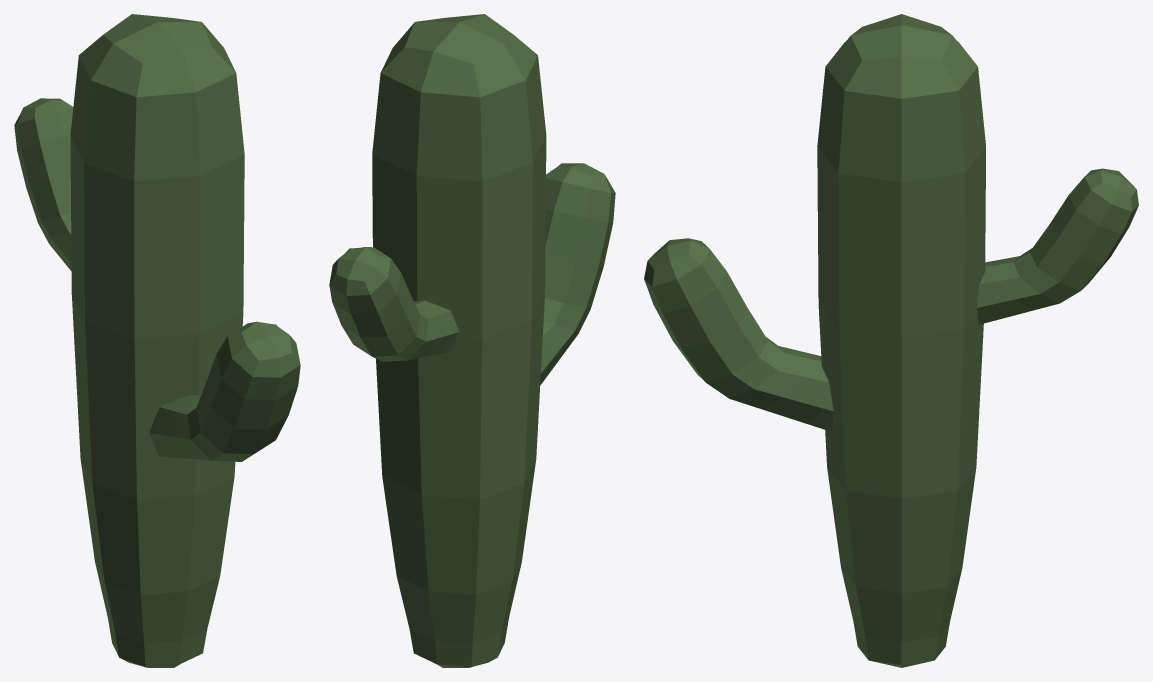
The model's file is cactus_3.glb.
The picture shows the model from 3 angles, left to right: view 1: azimuth 30°, elevation 25°; view 2: azimuth 150°, elevation 25°; view 3: azimuth 270°, elevation 25°; orthographic projection.
Parts seen in each view (by area): view 1: cactus_3; view 2: cactus_3; view 3: cactus_3.
Part boxes in pixels (x1,y1,x2,y2): cactus_3: (14, 14, 300, 667); cactus_3: (329, 14, 615, 667); cactus_3: (644, 14, 1138, 667).
Bounding box in the file's own units: 0.3418 × 1.41 × 1.
1 material, 1 textured.
